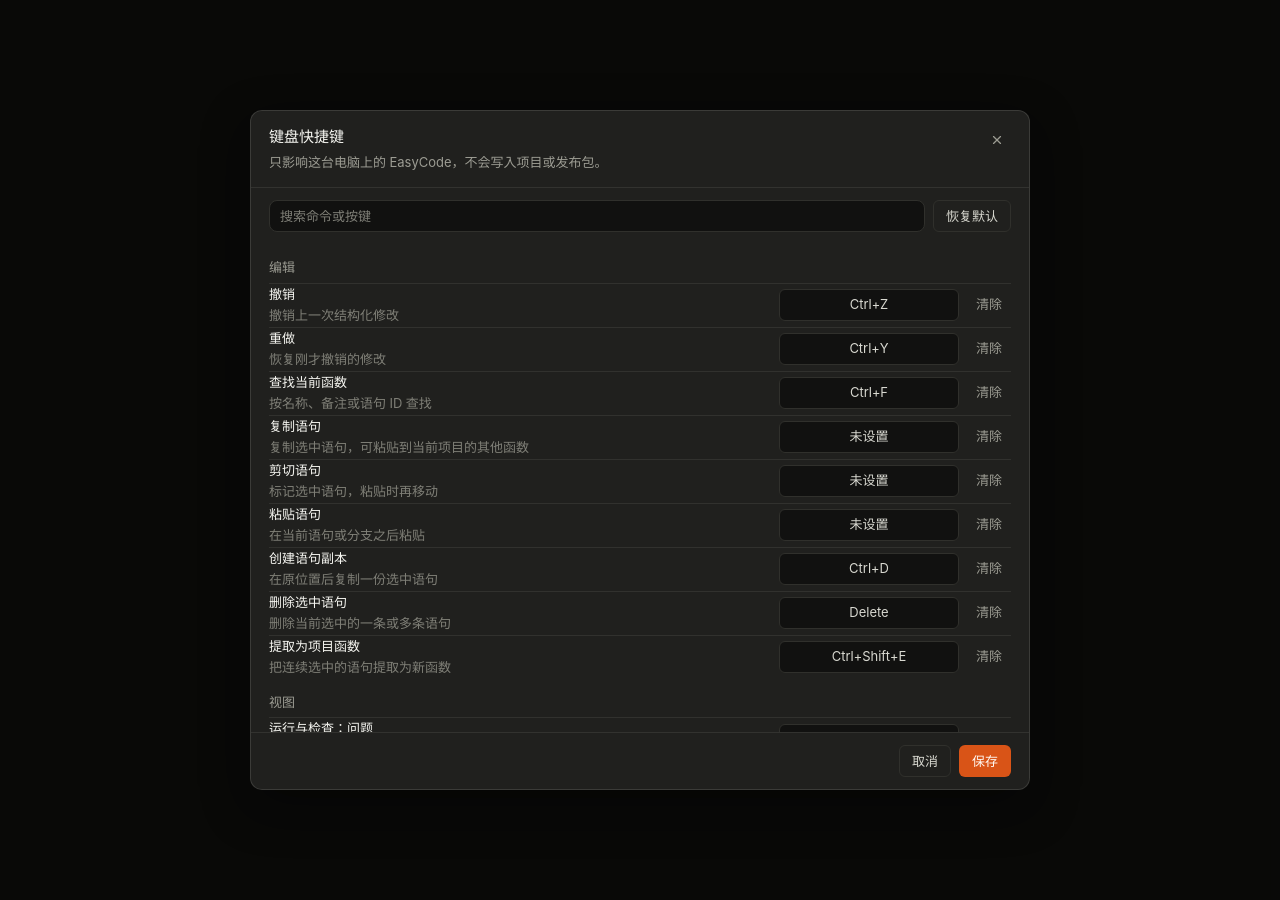
Scenario: VNextShortcutSettingsDialog › shows a conflict and blocks save when two commands share a shortcut
Click the button with class "shortcut-recorder" showing "Ctrl+Y": (869, 349) [779,333,959,365]
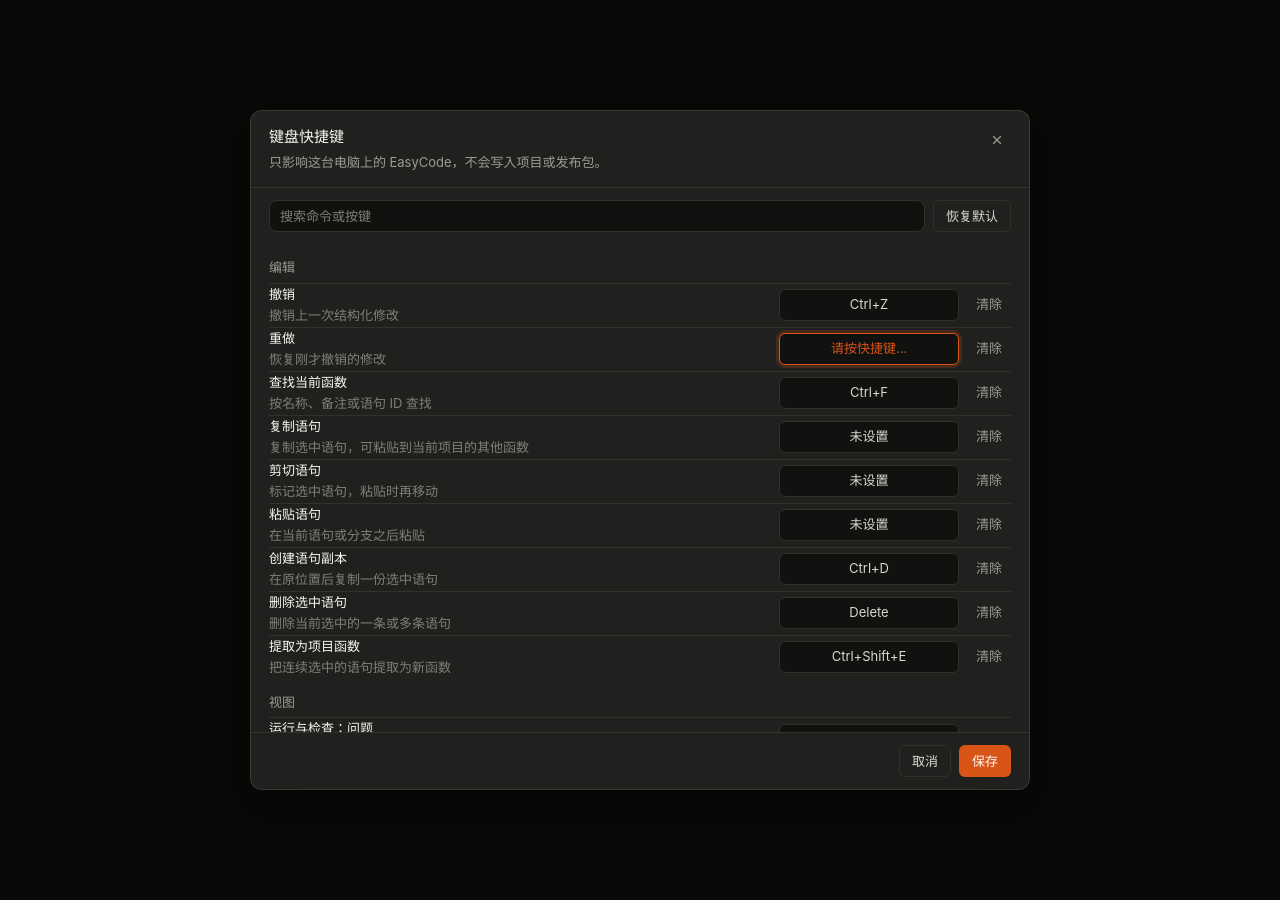
Press z in the button with class "shortcut-recorder" showing "请按快捷键…", box [779,333,959,365]
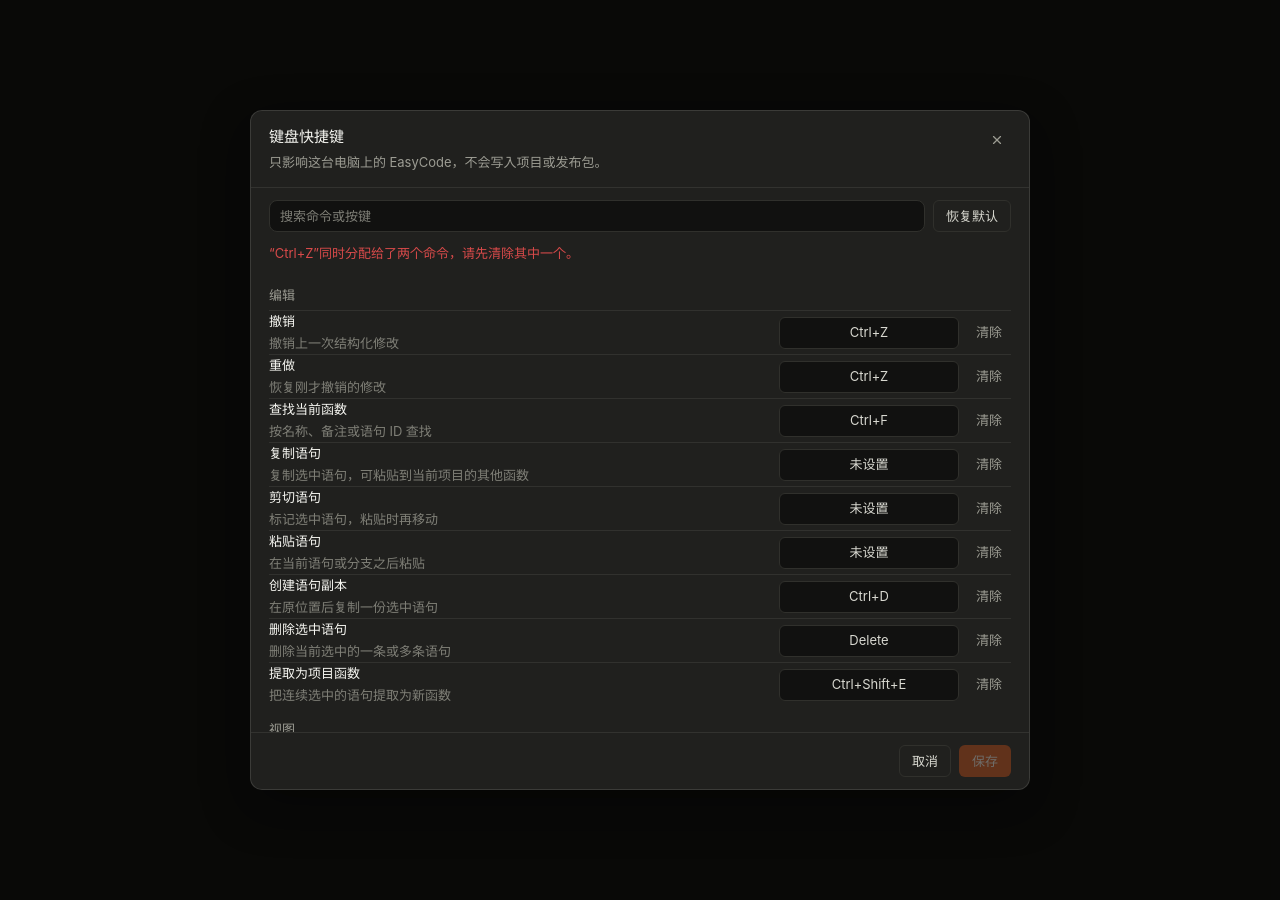
Expected: the message "“Ctrl+Z”同时分配给了两个命令，请先清除其中一个。" is shown, [269,245,579,261]
Expected: the button with class "is-primary" is disabled, [959,745,1011,777]
